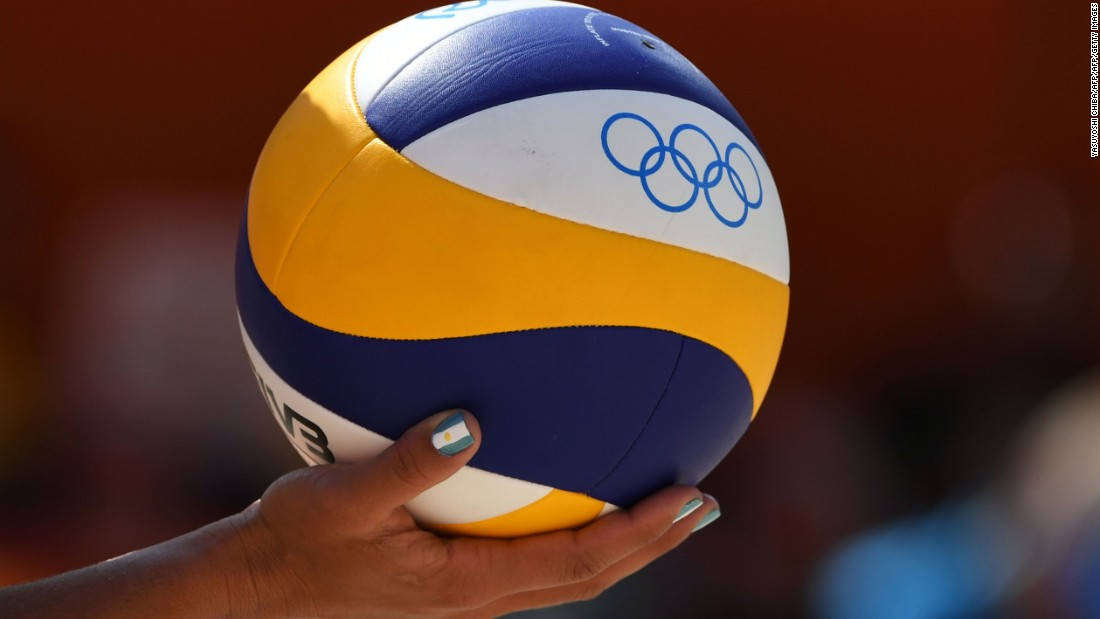volleyball: (234, 1, 798, 540)
